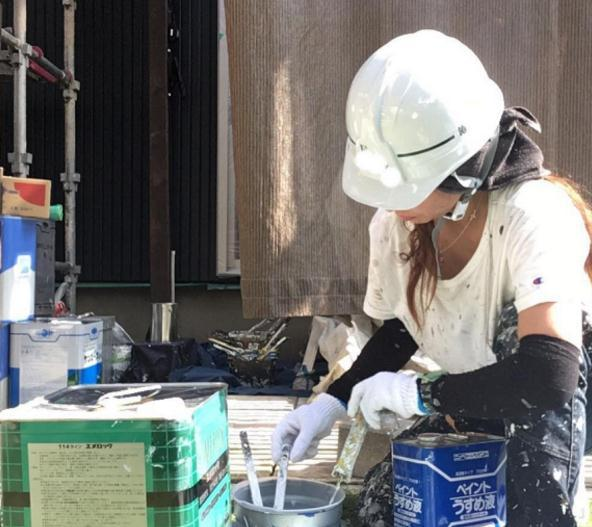helmet: (341, 32, 506, 208)
